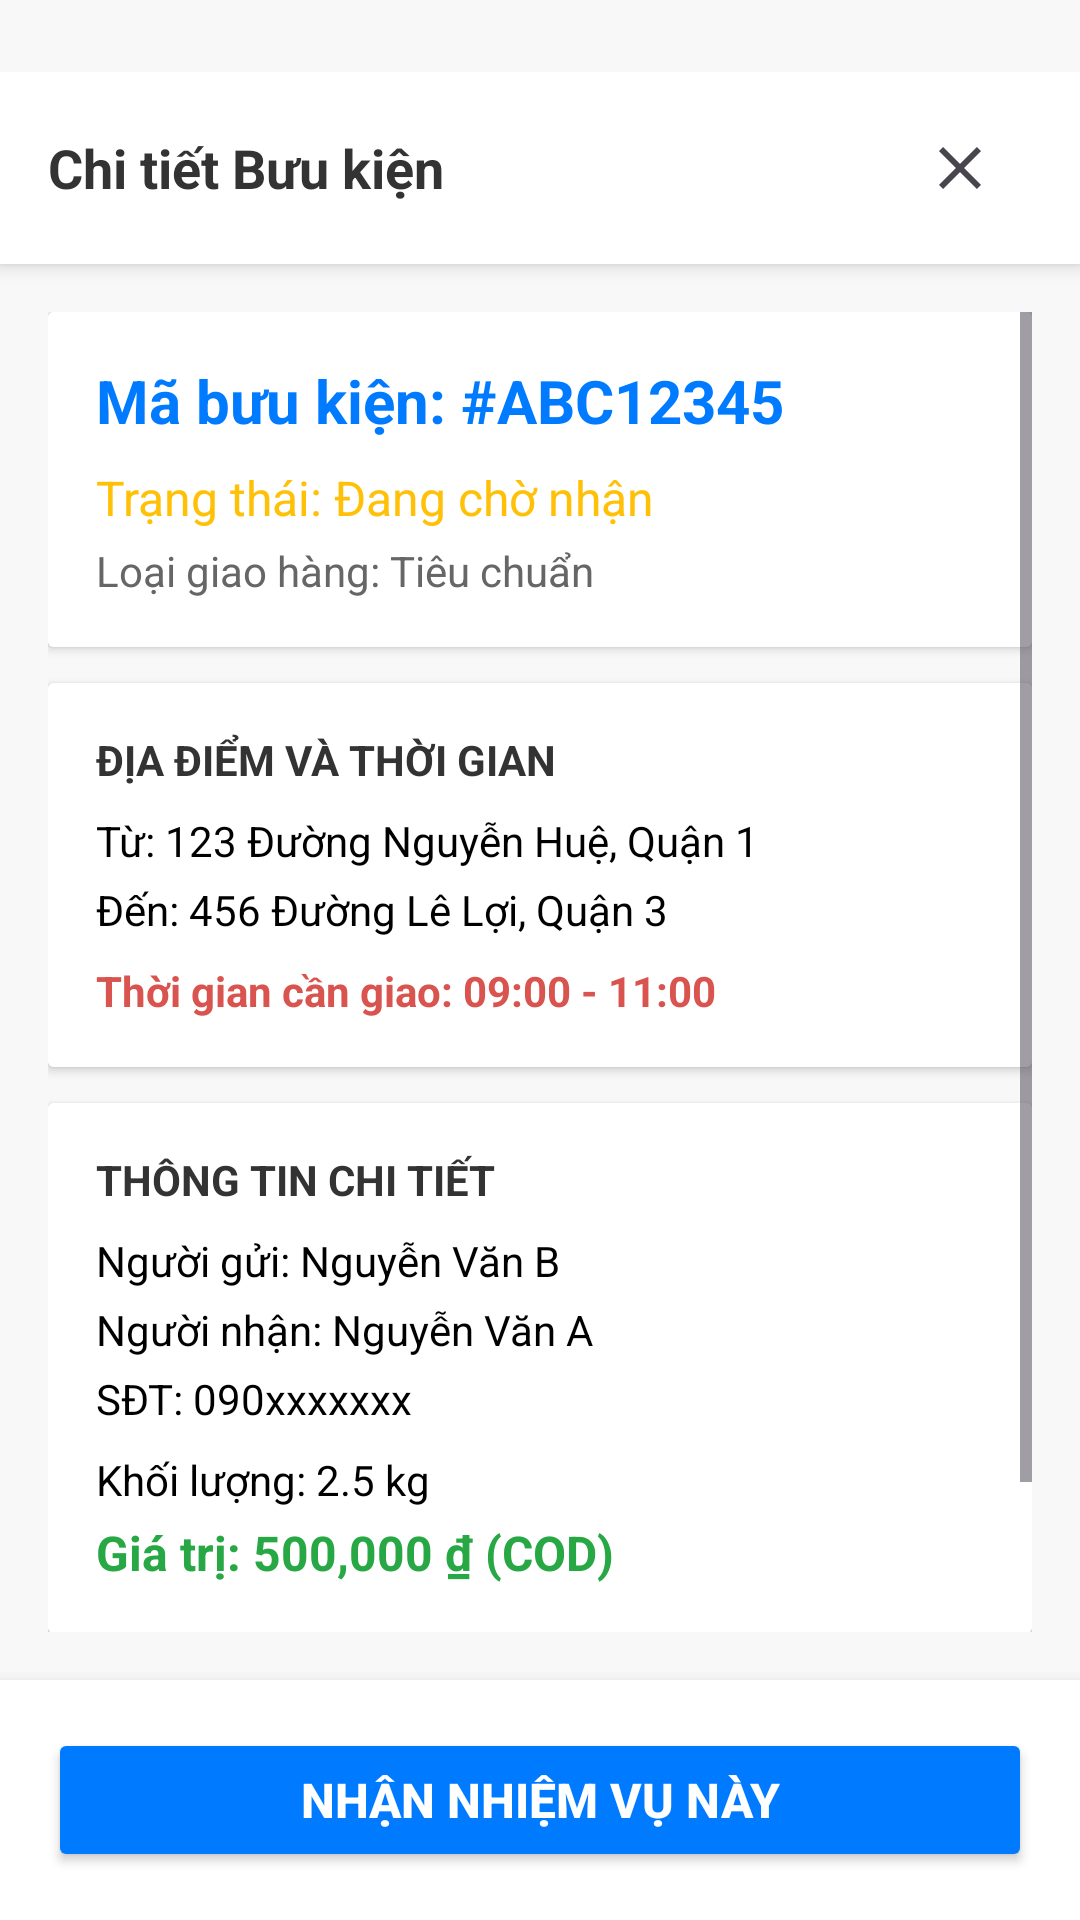

Named icons in this screenshot (1080w x 1920h) and their centers, [x,y]:
Đóng: [960,168]
